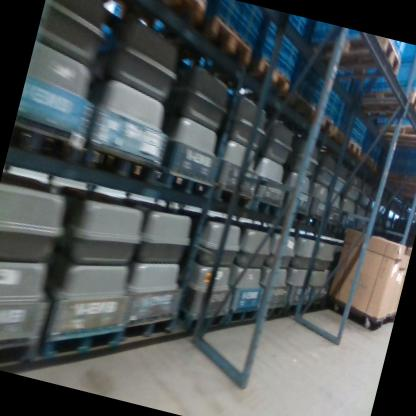pallet: (310, 21, 406, 82), (40, 308, 123, 378), (82, 141, 164, 189), (9, 118, 87, 168), (196, 14, 259, 68), (117, 303, 178, 357), (362, 79, 416, 122), (244, 54, 296, 98), (0, 328, 41, 377), (136, 0, 209, 26), (158, 168, 216, 200), (184, 299, 229, 339), (379, 115, 416, 148), (214, 183, 257, 211), (284, 89, 319, 122), (384, 166, 416, 196), (225, 302, 259, 329), (251, 197, 284, 219), (306, 296, 328, 318), (327, 128, 348, 149), (285, 299, 307, 319), (265, 301, 284, 323), (308, 214, 328, 231), (318, 115, 335, 135), (346, 138, 364, 156), (294, 208, 311, 224), (361, 154, 376, 170)
small_load_carrier: (255, 24, 287, 54), (394, 63, 416, 98), (276, 42, 300, 68), (399, 45, 416, 78)
